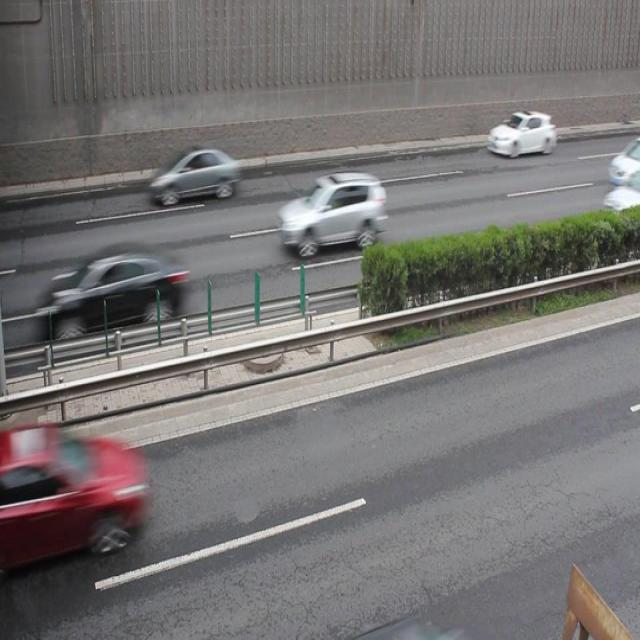car: (9, 428, 145, 566), (46, 241, 188, 339), (276, 170, 388, 259), (149, 143, 240, 204), (486, 110, 555, 157)
